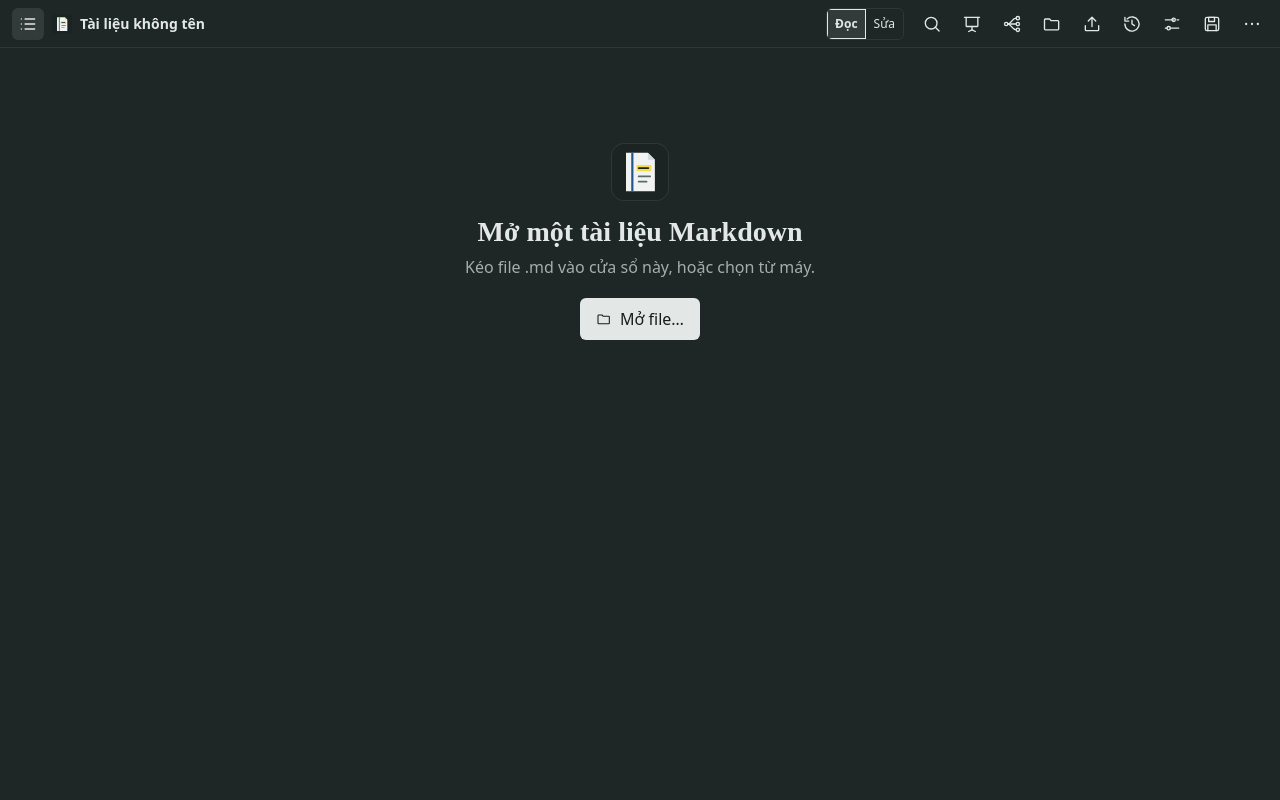
Test case: App › shows a visible, dismissible error when export fails
Click the button named "Xuất file" at (1092, 24), box [1076,8,1108,40]
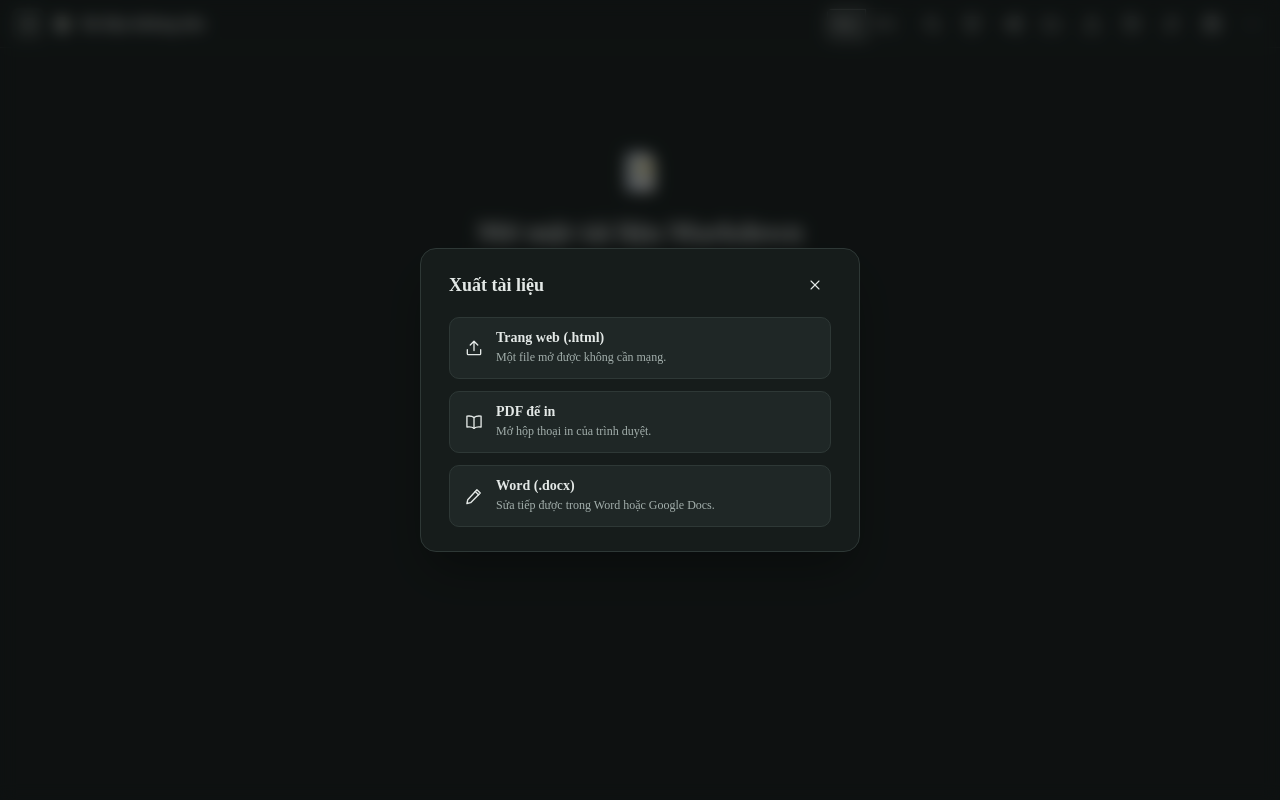
Click the text "Word (.docx)" at (535, 486), box [496,478,575,494]
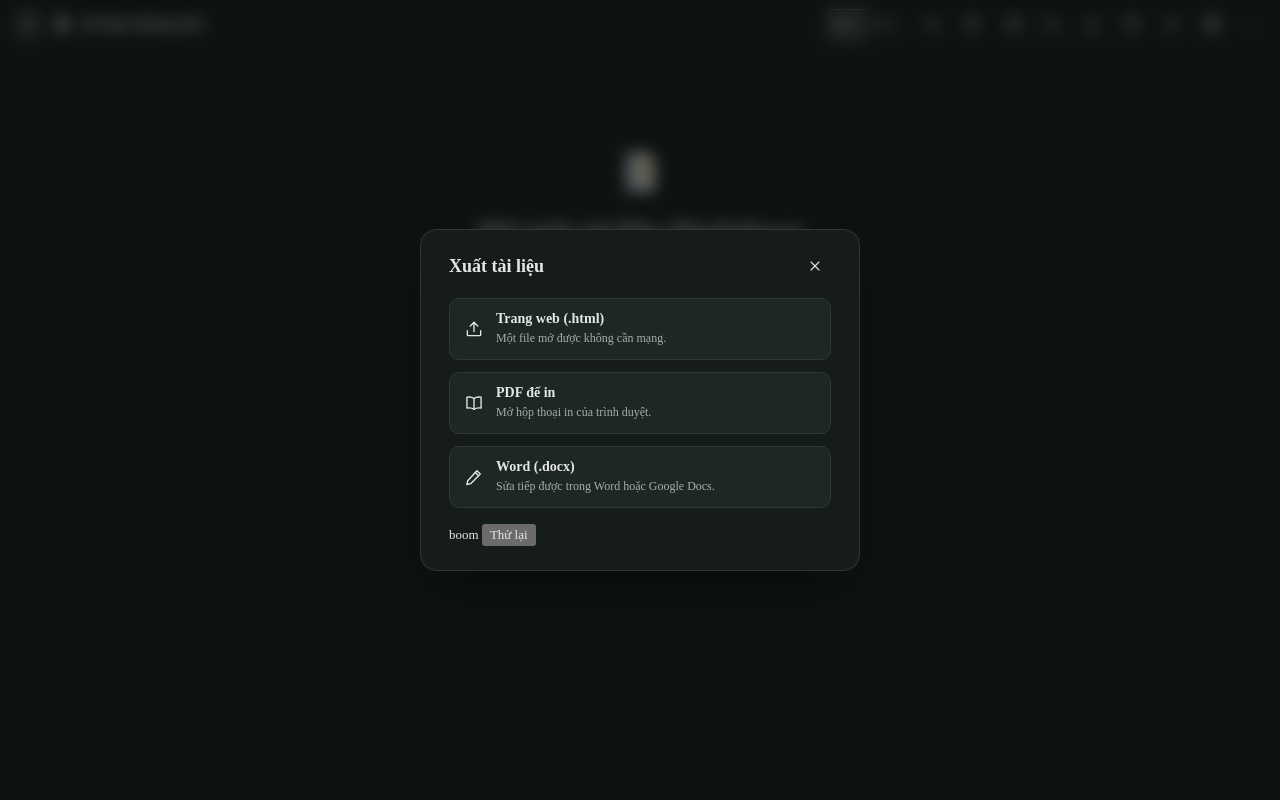
Expected: the message shows "boom", [449,527,479,542]
Expected: the button "Thử lại" is shown, [482,524,536,546]
Click the button named "Đóng" at (815, 266), box [799,254,831,278]
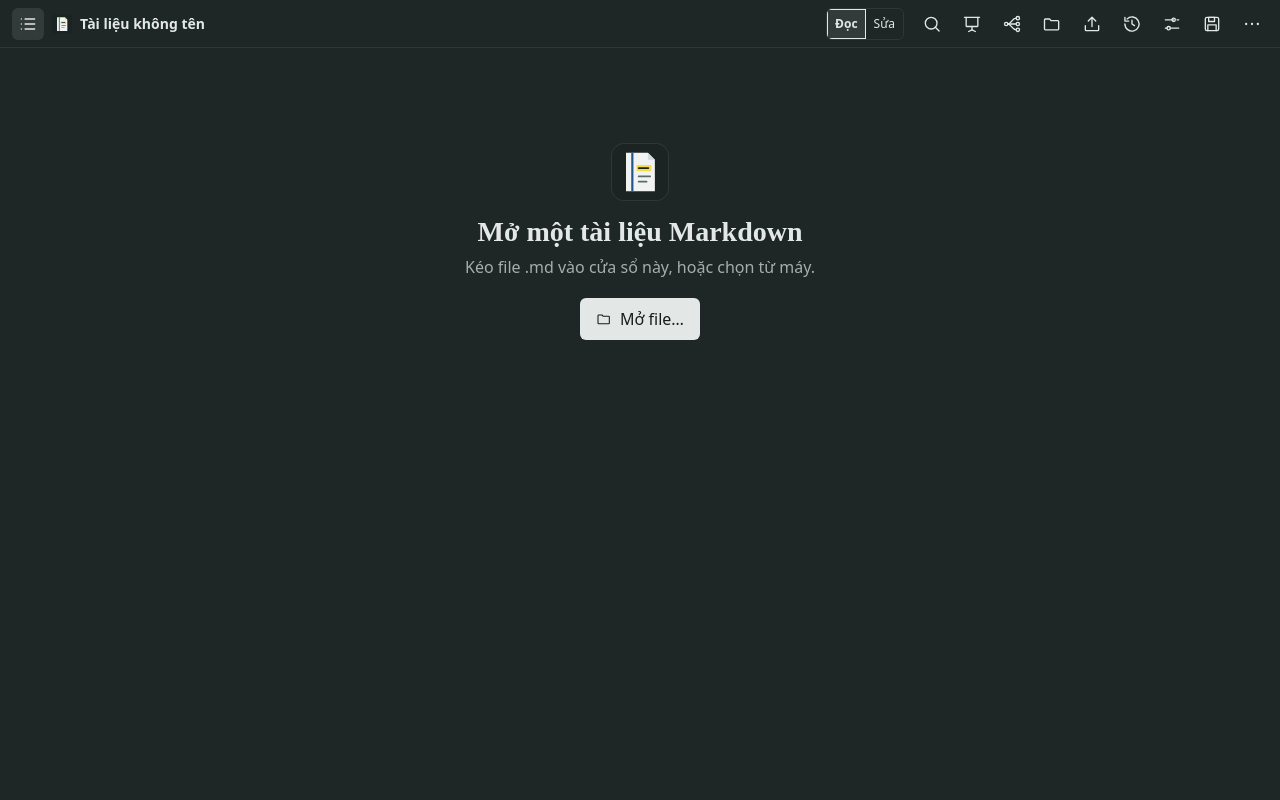
Expected: the message "boom Thử lại" is gone
